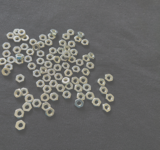nut: (15, 120, 26, 132), (14, 109, 24, 120), (32, 99, 42, 110), (22, 103, 32, 113), (1, 67, 11, 77), (16, 74, 25, 84), (50, 93, 59, 103), (42, 102, 51, 112), (103, 103, 112, 113), (75, 99, 84, 109), (85, 92, 95, 101), (62, 91, 72, 100), (79, 76, 89, 85), (2, 50, 12, 59), (7, 56, 17, 65), (44, 60, 53, 70), (64, 69, 74, 78), (36, 41, 46, 50), (72, 65, 81, 75), (36, 80, 45, 89), (25, 95, 34, 104), (92, 99, 101, 108), (106, 94, 115, 103), (77, 93, 86, 102), (75, 85, 84, 94), (71, 77, 80, 86), (40, 66, 49, 75), (7, 56, 16, 65), (74, 35, 83, 44), (53, 55, 62, 64), (82, 68, 91, 77), (15, 89, 23, 99), (2, 42, 12, 50), (46, 108, 54, 118), (42, 86, 52, 94), (32, 70, 42, 78), (57, 84, 65, 94), (54, 73, 64, 81), (36, 50, 46, 58), (41, 94, 50, 102), (21, 88, 29, 97), (106, 74, 114, 83), (98, 79, 107, 87), (99, 87, 108, 95), (86, 62, 95, 70), (83, 84, 92, 92), (43, 74, 52, 82), (50, 80, 58, 89), (65, 83, 74, 91), (62, 77, 71, 85), (48, 68, 56, 77), (5, 64, 14, 72), (16, 57, 24, 66), (13, 46, 22, 54), (13, 28, 22, 36), (20, 43, 29, 51), (36, 58, 45, 66), (53, 64, 62, 72), (62, 62, 71, 70), (37, 50, 46, 58), (39, 34, 48, 42), (81, 38, 90, 46), (59, 39, 68, 47), (49, 47, 58, 55), (63, 51, 72, 59), (76, 59, 85, 67), (82, 54, 91, 62), (47, 33, 57, 40), (45, 54, 55, 61), (15, 54, 26, 60), (7, 32, 15, 40), (29, 38, 37, 46), (33, 44, 41, 52), (78, 30, 86, 38), (24, 56, 33, 63), (21, 35, 30, 42), (26, 49, 35, 56), (45, 39, 54, 46), (58, 46, 65, 55), (70, 49, 79, 56), (68, 41, 77, 48), (67, 29, 75, 36), (0, 58, 7, 66), (28, 63, 36, 70), (18, 29, 26, 36), (13, 36, 21, 43), (50, 29, 58, 36), (63, 33, 71, 40), (60, 55, 68, 62), (89, 52, 96, 60), (69, 57, 76, 64), (65, 47, 70, 54)
